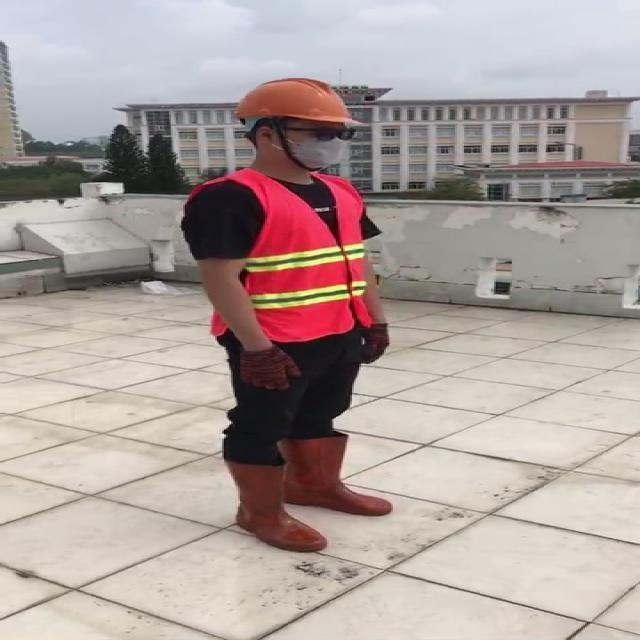gloves: (232, 339, 302, 397), (354, 314, 398, 370)
goggles: (276, 120, 361, 144)
helmet: (230, 76, 364, 126)
safety_vest: (210, 171, 368, 340)
